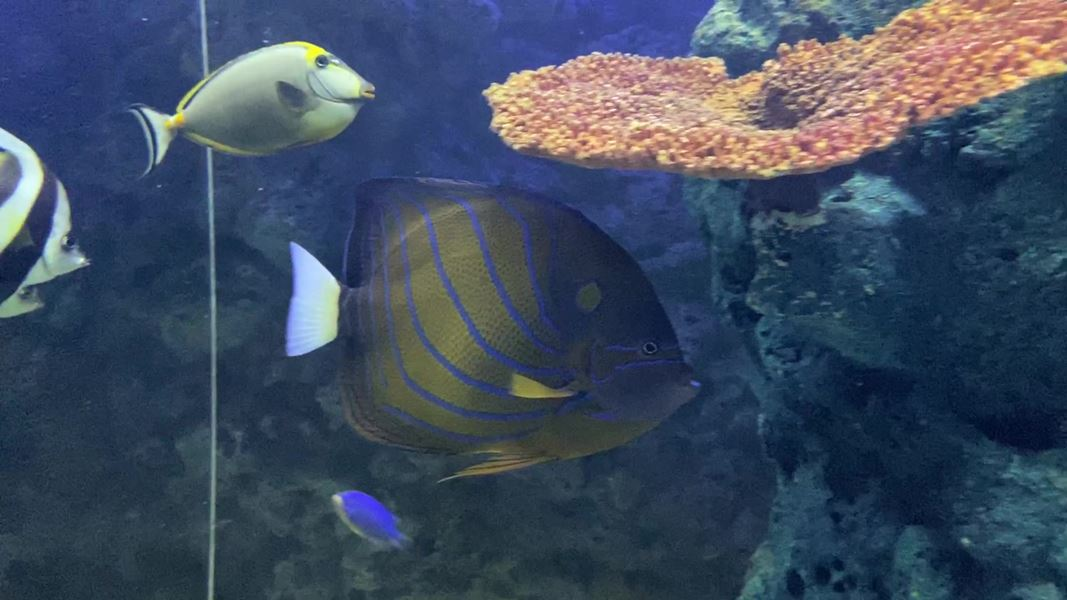Blue ring angelfish: (257, 153, 729, 504)
